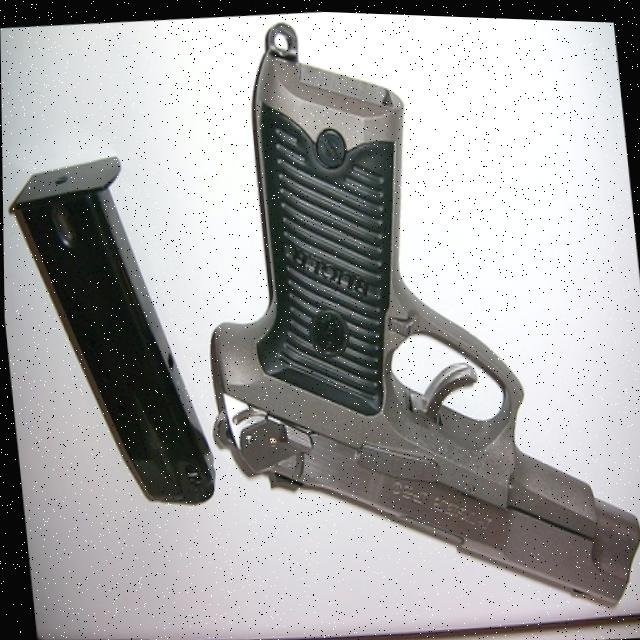pistol: (176, 7, 640, 640)
